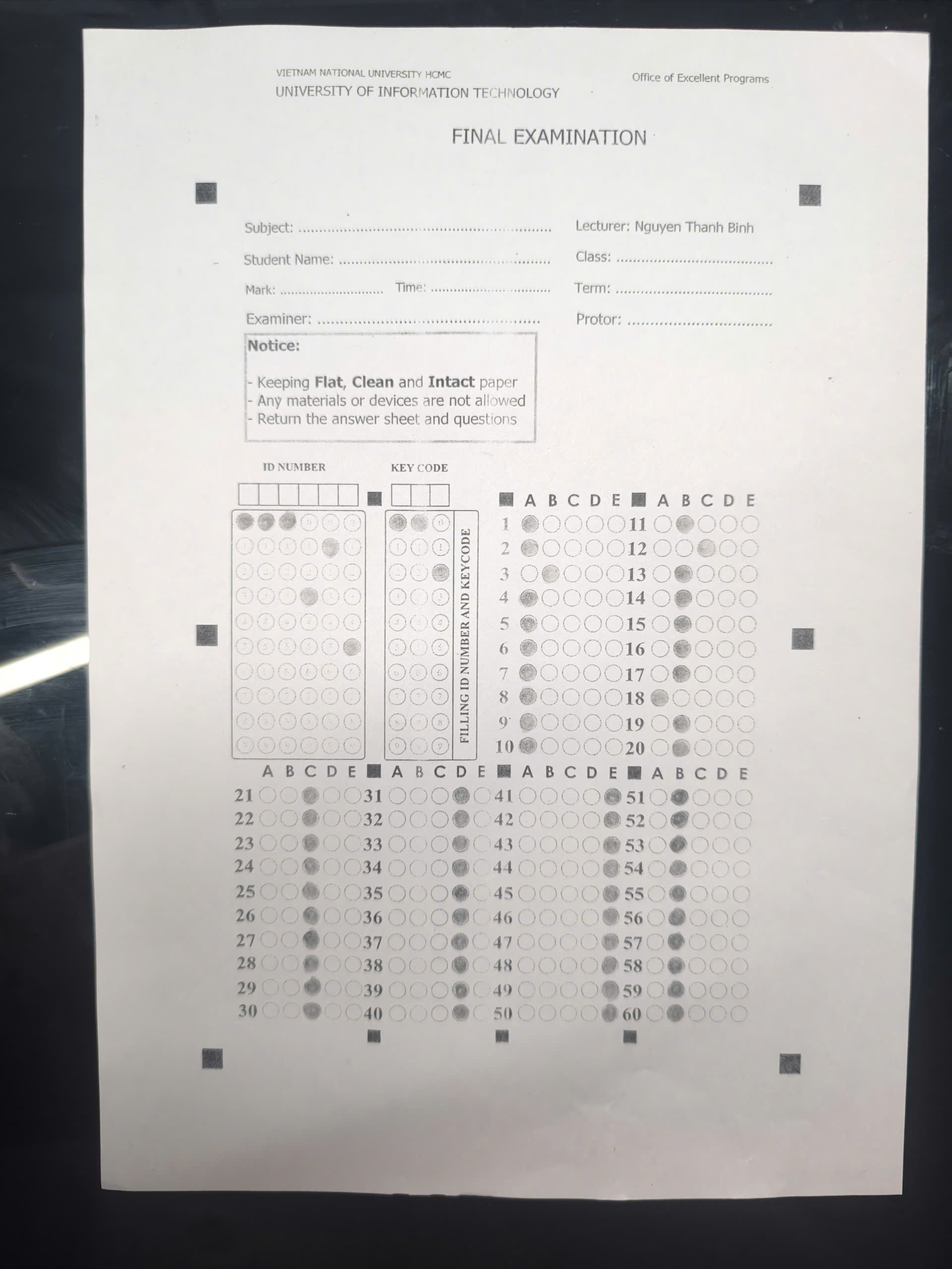info_region: (233, 508, 455, 761)
paper_region: (204, 190, 807, 1067)
q_1_20: (505, 500, 763, 776)
q_21_60: (233, 776, 763, 1040)
